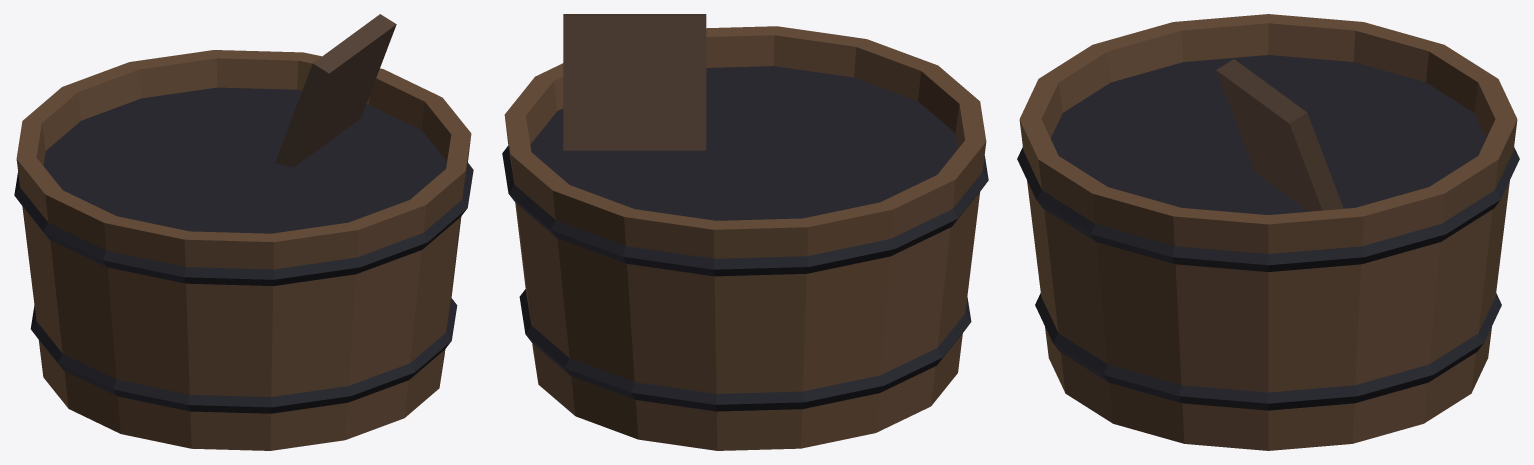
Rendered from tub_wooden.glb.
3 renders of one model, left to right at view 1: azimuth 30°, elevation 25°; view 2: azimuth 150°, elevation 25°; view 3: azimuth 270°, elevation 25°, orthographic. The views are drawn at different scales.
Parts seen in each view (by area): view 1: tub_wooden; view 2: tub_wooden; view 3: tub_wooden.
Boxes of the visible parts, x1=… form: tub_wooden: x1=14, y1=14, x2=473, y2=450; tub_wooden: x1=502, y1=14, x2=988, y2=450; tub_wooden: x1=1017, y1=14, x2=1519, y2=450.
Size of the model in its own units: 0.6867 by 0.4931 by 0.6867.
